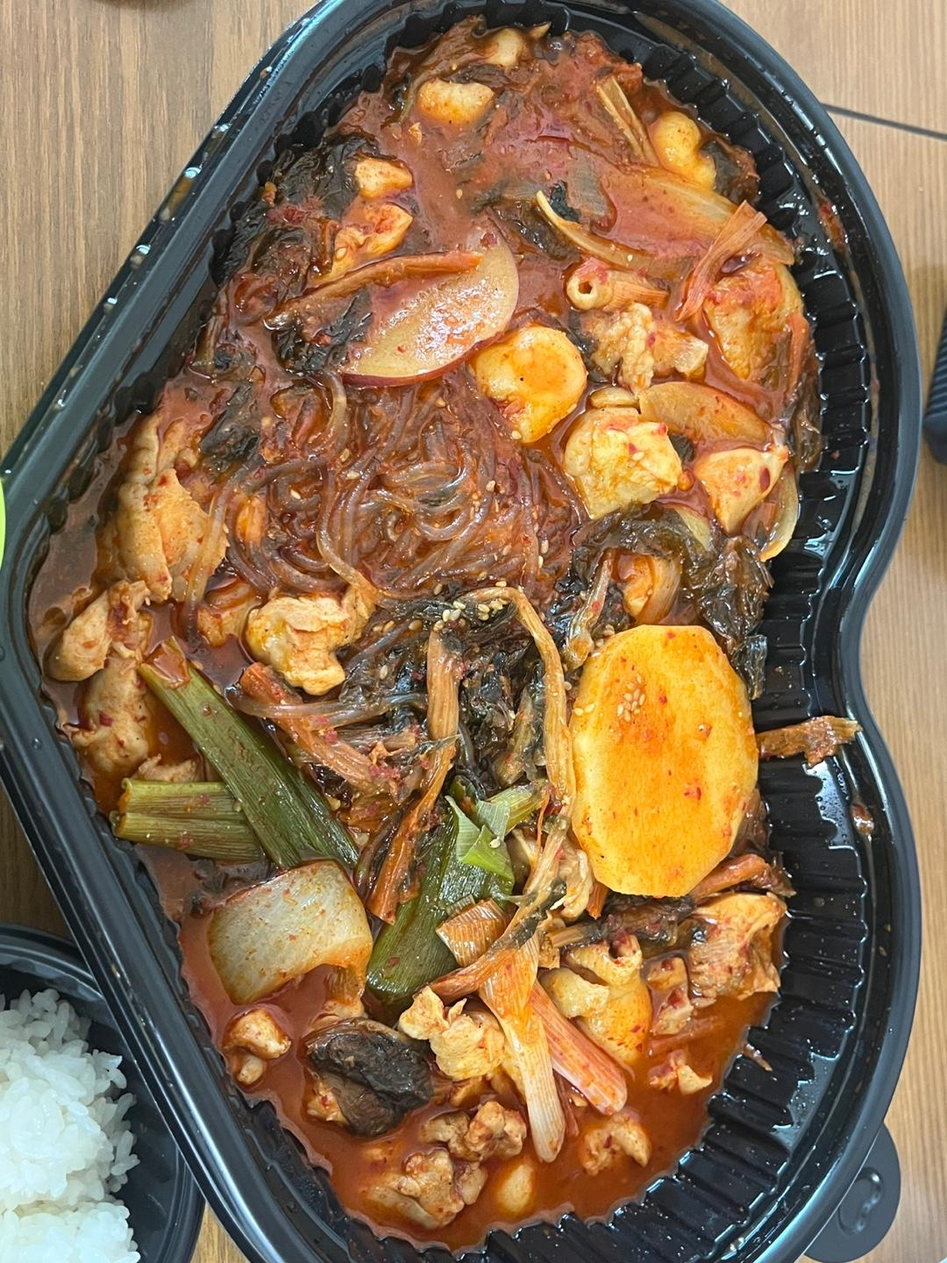Lunch Box: (0, 0, 921, 1262)
